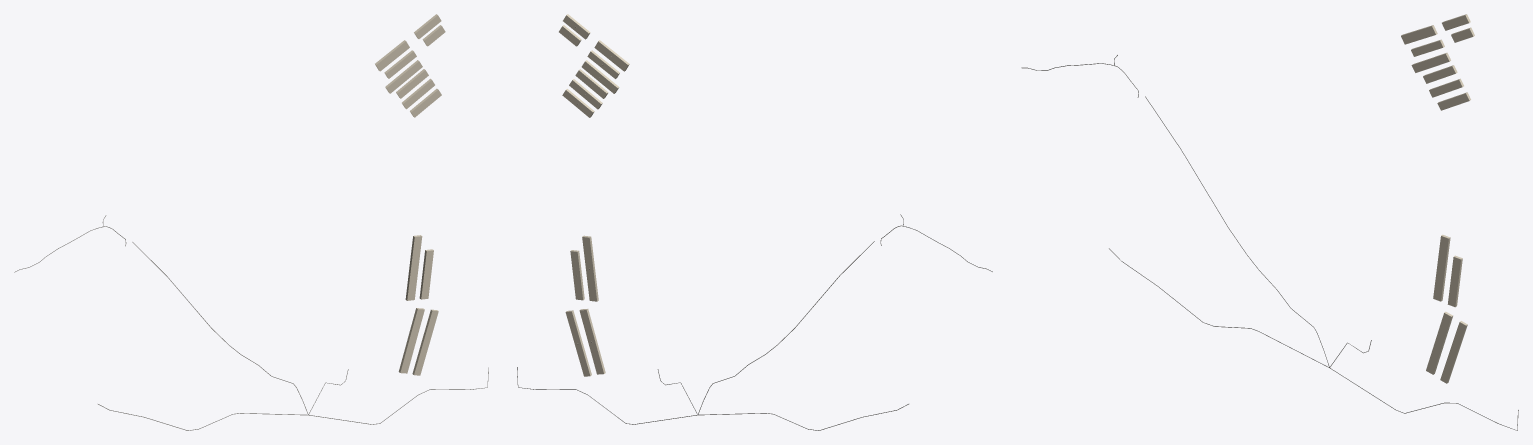
File: historic-palestine-15_34_3567_3287.glb
The picture shows the model from 3 angles, left to right: view 1: azimuth 30°, elevation 25°; view 2: azimuth 150°, elevation 25°; view 3: azimuth 330°, elevation 25°; orthographic projection. The views are drawn at different scales.
Visible parts, largest first — view 1: Building_.008, Building_.010, Building_.011, Road, Building_.009; view 2: Building_.008, Building_.010, Building_.011, Building_.009, Road; view 3: Building_.008, Building_.010, Building_.011, Road, Building_.009.
Part boxes in pixels (<box>): Building_.008: <box>405,235,422,300</box>; Building_.010: <box>398,308,424,373</box>; Building_.011: <box>412,309,438,375</box>; Road: <box>98,367,488,430</box>; Building_.009: <box>419,249,433,299</box>; Building_.008: <box>582,235,598,301</box>; Building_.010: <box>579,309,605,374</box>; Building_.011: <box>565,310,591,376</box>; Building_.009: <box>570,250,584,300</box>; Road: <box>517,367,908,430</box>; Building_.008: <box>1433,234,1450,301</box>; Building_.010: <box>1426,311,1452,374</box>; Building_.011: <box>1440,321,1467,383</box>; Road: <box>1109,248,1518,430</box>; Building_.009: <box>1447,255,1462,307</box>.
Size of the model in its own units: 1278 by 1016 by 8.7.
